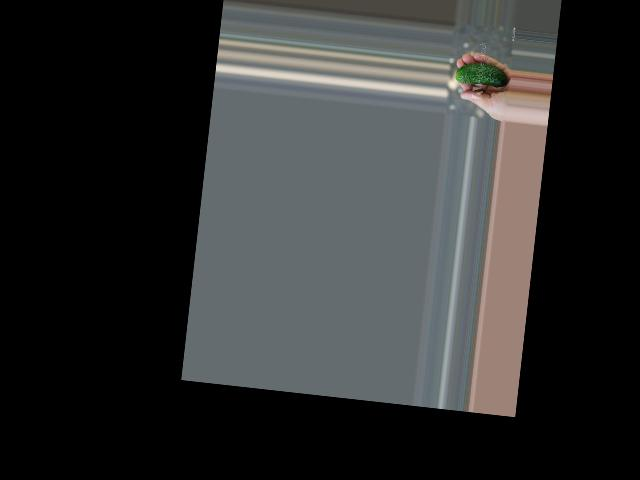cucumber: (455, 60, 509, 87)
